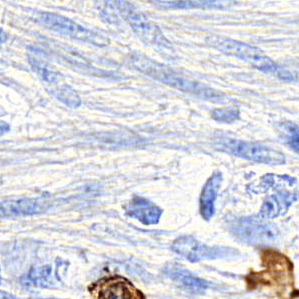Lymphocyte: (85, 274, 147, 298)
